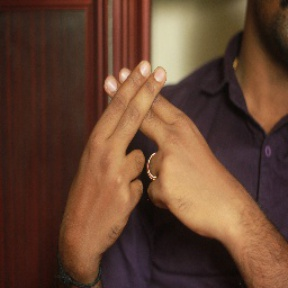F: (62, 51, 211, 183)
